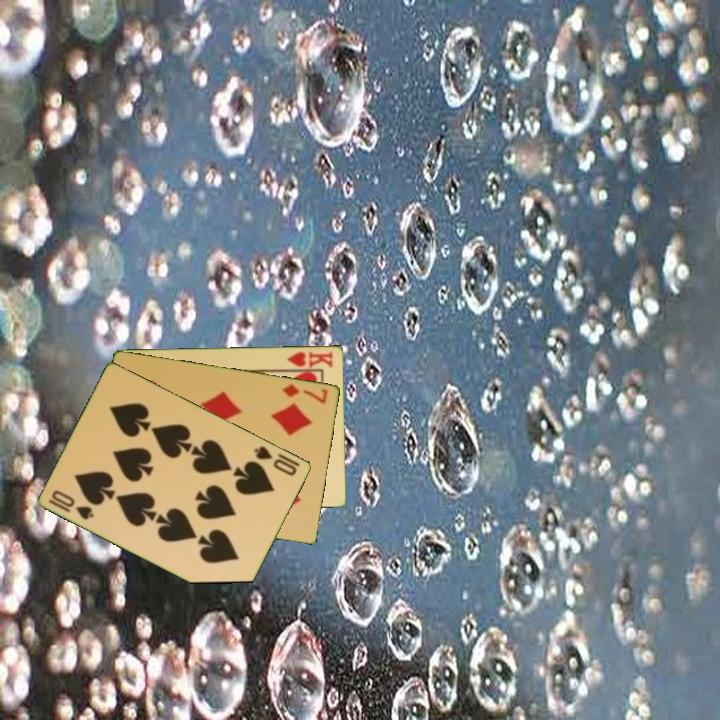10s: (45, 486, 97, 522), (251, 442, 300, 478)
7d: (279, 380, 331, 406)
Kh: (281, 348, 336, 372)
